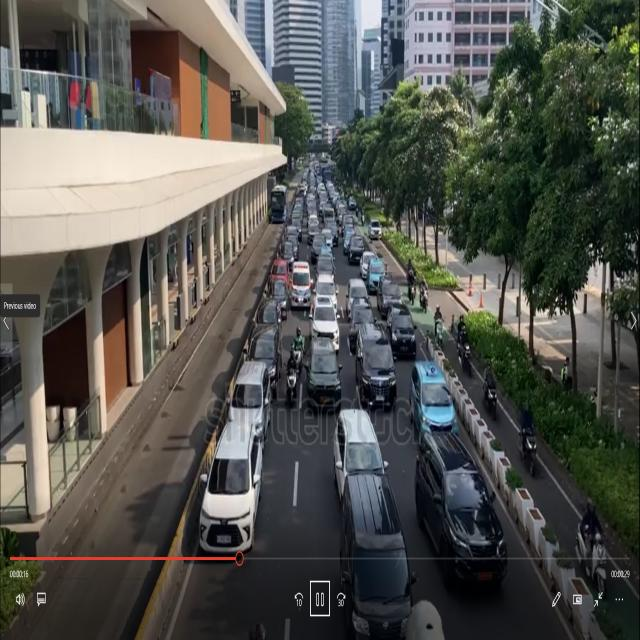Ambulance: (289, 256, 314, 318)
